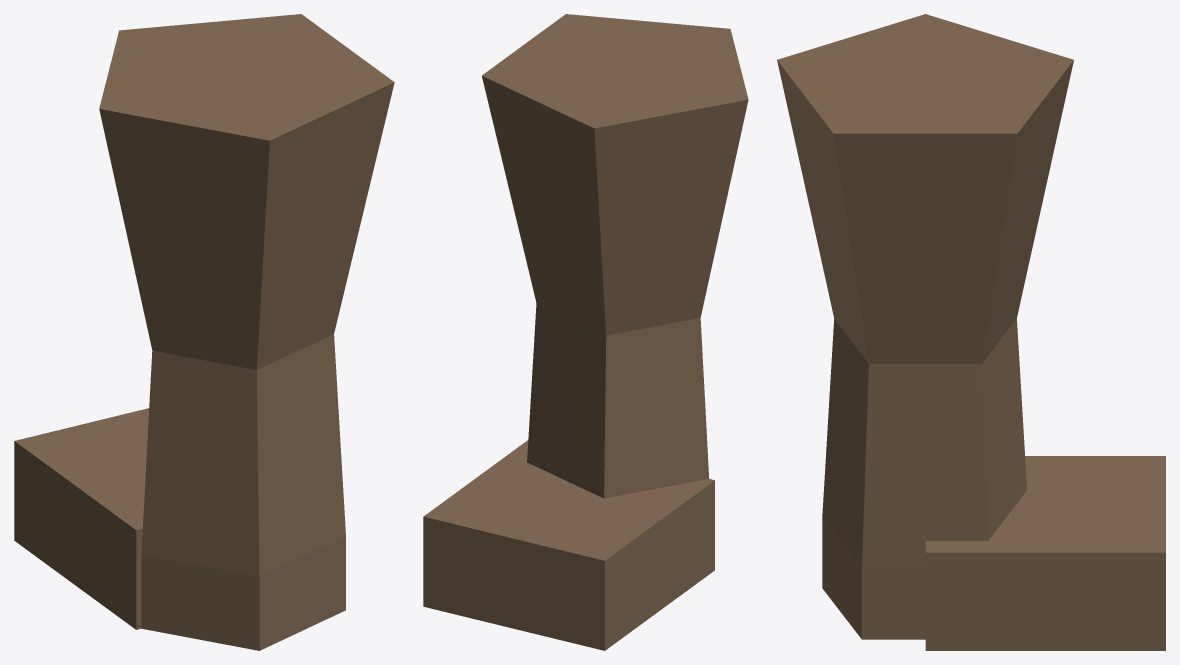
The model's file is animal_hare_leg.obj.
3 views of the same model, side by side, from view 1: azimuth 30°, elevation 25°; view 2: azimuth 150°, elevation 25°; view 3: azimuth 270°, elevation 25° (orthographic). The views are drawn at different scales.
Visible parts, largest first — view 1: animal_hare_leg; view 2: animal_hare_leg; view 3: animal_hare_leg.
Part boxes in pixels (x1,y1,x2,y2): animal_hare_leg: (14,14,394,650); animal_hare_leg: (423,14,748,650); animal_hare_leg: (777,14,1165,650).
Bounding box in the file's own units: 0.053 × 0.1079 × 0.0728.
